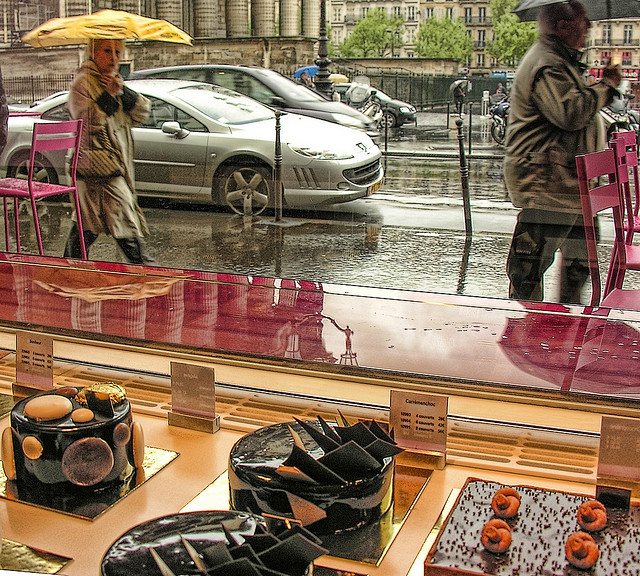non-vehicle: (339, 74, 383, 128), (598, 91, 635, 151), (487, 94, 510, 144)
